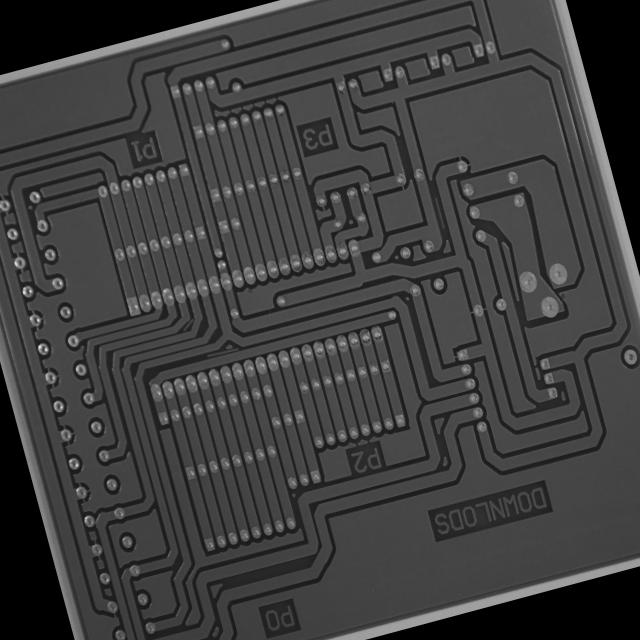spurious_copper: (429, 191, 449, 233), (204, 342, 242, 362), (178, 316, 196, 332)
